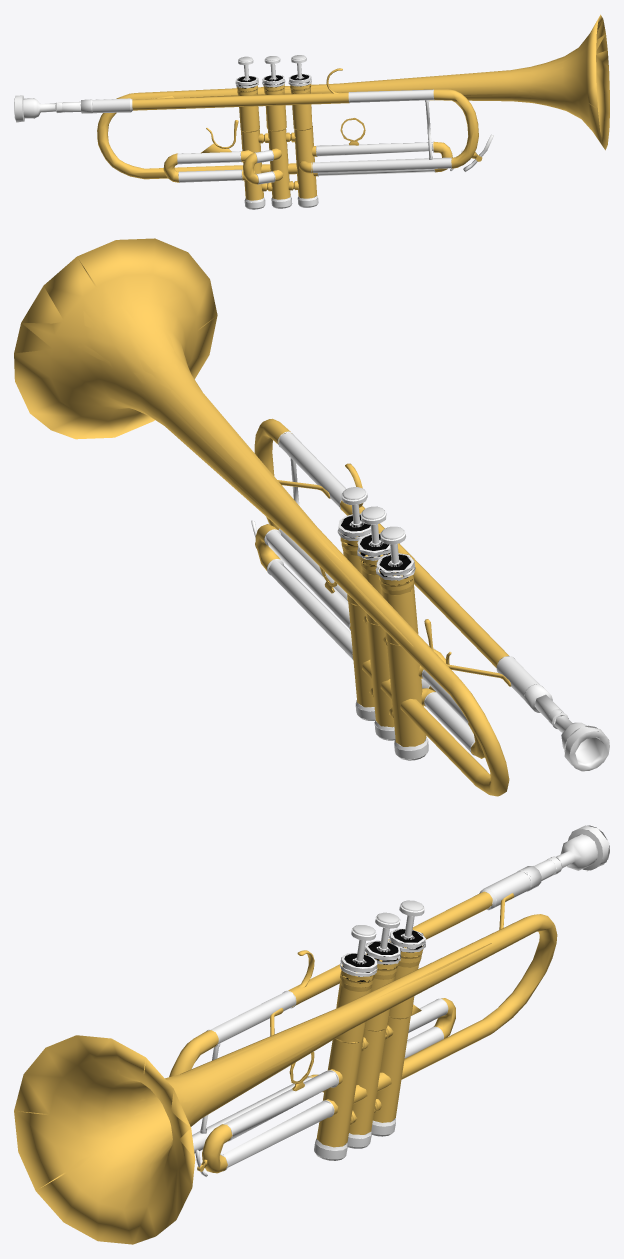
Rendered from trumpet.glb.
The picture shows the model from 3 angles, top to bottom: view 1: azimuth 30°, elevation 25°; view 2: azimuth 150°, elevation 25°; view 3: azimuth 270°, elevation 25°; orthographic projection. The views are drawn at different scales.
Visible parts, largest first — view 1: Cylinder, Cylinder.001, Cylinder.006, Cylinder.005, Cylinder.014, Cylinder.003, Cylinder.034, Cylinder.002, Cylinder.013, Cylinder.015, Torus, Cylinder.007 (+1 smaller); view 2: Cylinder, Cylinder.001, Cylinder.006, Cylinder.005, Cylinder.014, Cylinder.037, Cylinder.034, Cylinder.004, Cylinder.033, Cylinder.002, Cylinder.015; view 3: Cylinder, Cylinder.001, Cylinder.006, Cylinder.014, Cylinder.005, Cylinder.002, Cylinder.034, Cylinder.004, Cylinder.013, Cylinder.033, Cylinder.015.
Boxes of the visible parts, left/top/right/bottom form: Cylinder: left=97, top=14, right=609, bottom=179; Cylinder.001: left=237, top=86, right=317, bottom=200; Cylinder.006: left=312, top=141, right=452, bottom=176; Cylinder.005: left=163, top=150, right=254, bottom=182; Cylinder.014: left=239, top=92, right=312, bottom=131; Cylinder.003: left=243, top=148, right=283, bottom=184; Cylinder.034: left=80, top=98, right=130, bottom=113; Cylinder.002: left=15, top=95, right=55, bottom=122; Cylinder.013: left=244, top=196, right=318, bottom=208; Cylinder.015: left=235, top=75, right=285, bottom=88; Torus: left=201, top=120, right=238, bottom=153; Cylinder.007: left=258, top=132, right=298, bottom=191; Cylinder: left=14, top=238, right=509, bottom=796; Cylinder.001: left=342, top=532, right=426, bottom=746; Cylinder.006: left=255, top=524, right=353, bottom=659; Cylinder.005: left=418, top=666, right=484, bottom=758; Cylinder.014: left=343, top=548, right=418, bottom=644; Cylinder.037: left=564, top=725, right=609, bottom=771; Cylinder.034: left=496, top=656, right=552, bottom=712; Cylinder.004: left=341, top=516, right=412, bottom=584; Cylinder.033: left=341, top=487, right=405, bottom=544; Cylinder.002: left=554, top=715, right=609, bottom=771; Cylinder.015: left=357, top=534, right=415, bottom=580; Cylinder: left=14, top=891, right=557, bottom=1244; Cylinder.001: left=316, top=947, right=422, bottom=1147; Cylinder.006: left=202, top=1069, right=342, bottom=1173; Cylinder.014: left=336, top=962, right=418, bottom=1042; Cylinder.005: left=404, top=998, right=455, bottom=1058; Cylinder.002: left=551, top=825, right=609, bottom=871; Cylinder.034: left=482, top=866, right=541, bottom=910; Cylinder.004: left=342, top=930, right=422, bottom=983; Cylinder.013: left=314, top=1119, right=395, bottom=1159; Cylinder.033: left=352, top=900, right=424, bottom=938; Cylinder.015: left=364, top=928, right=425, bottom=967.
Bounding box in the file's own units: 8.34 × 3.1 × 5.61.
